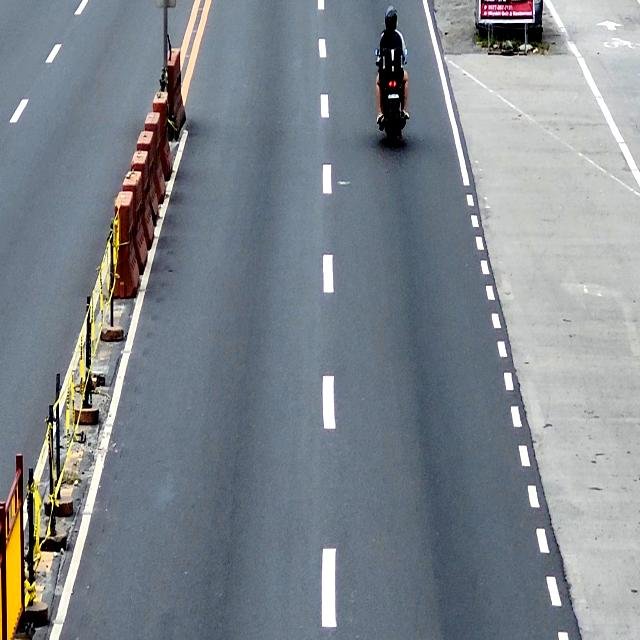Motorcycle: (374, 46, 408, 146)
